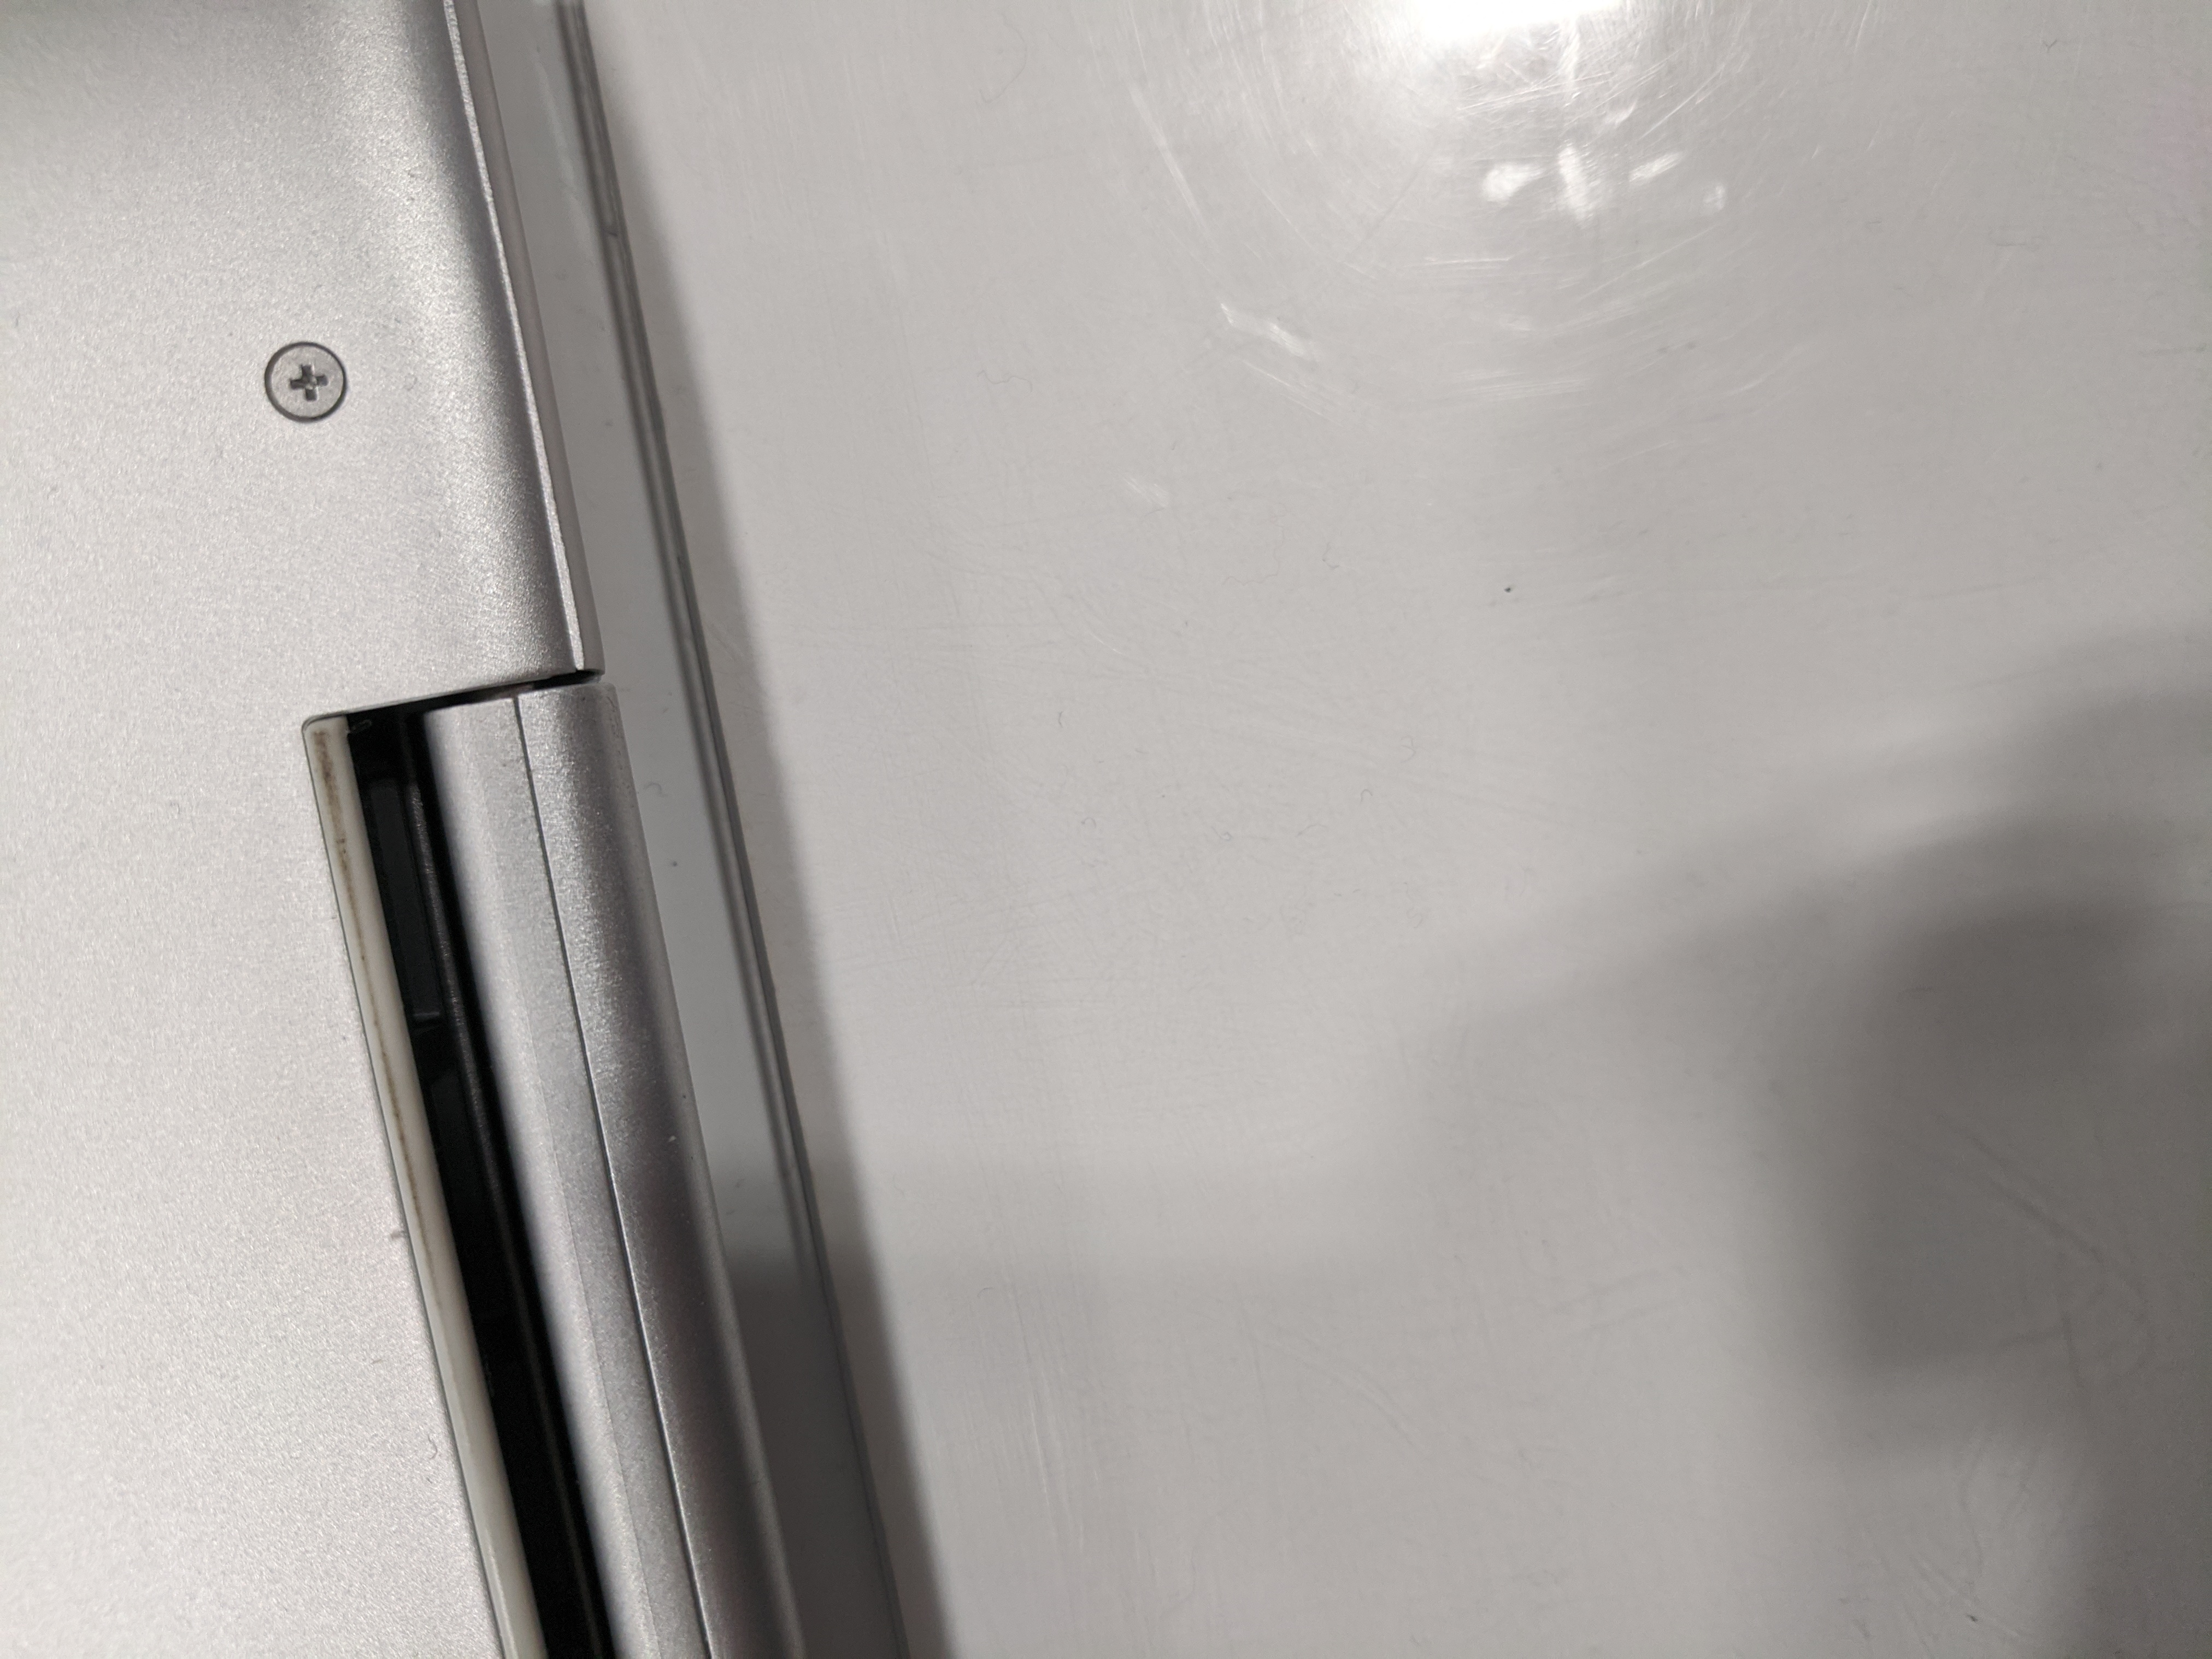cross_recessed_screw: (261, 333, 354, 423)
